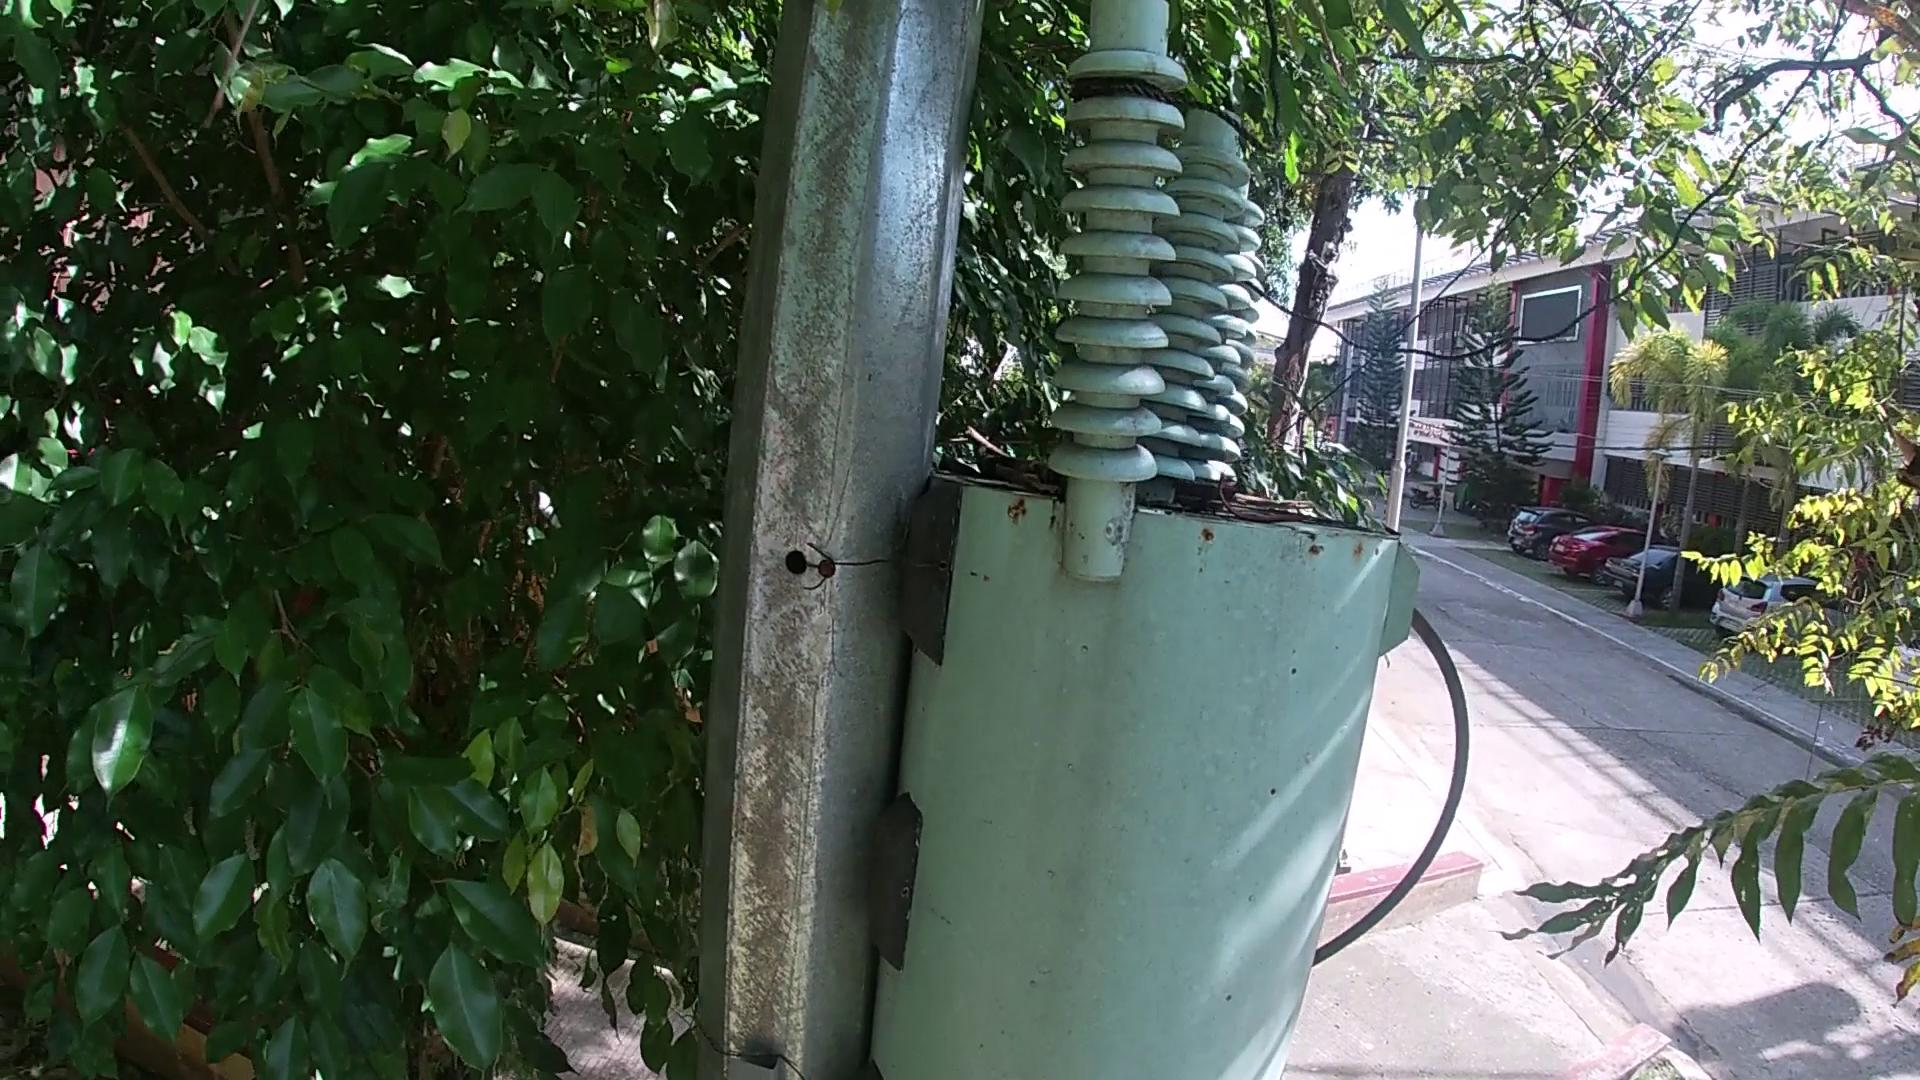mahogany fruit: (1211, 480, 1319, 524), (1182, 477, 1240, 496)
tree branch: (959, 448, 1046, 475), (963, 423, 1005, 448)
